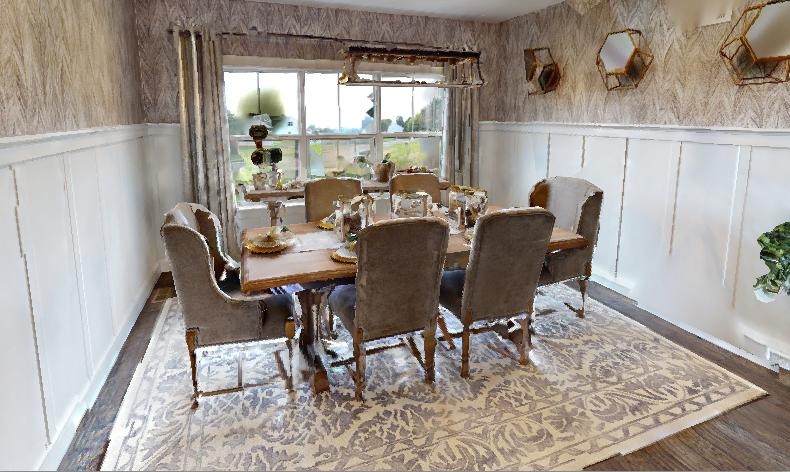chair: (156, 188, 306, 415), (319, 209, 447, 416), (436, 196, 562, 389), (520, 152, 612, 336)
table: (228, 203, 584, 381)
